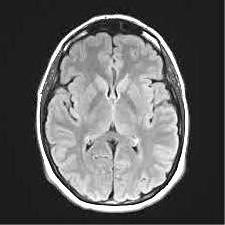Normal_Brain: (1, 1, 202, 225)
